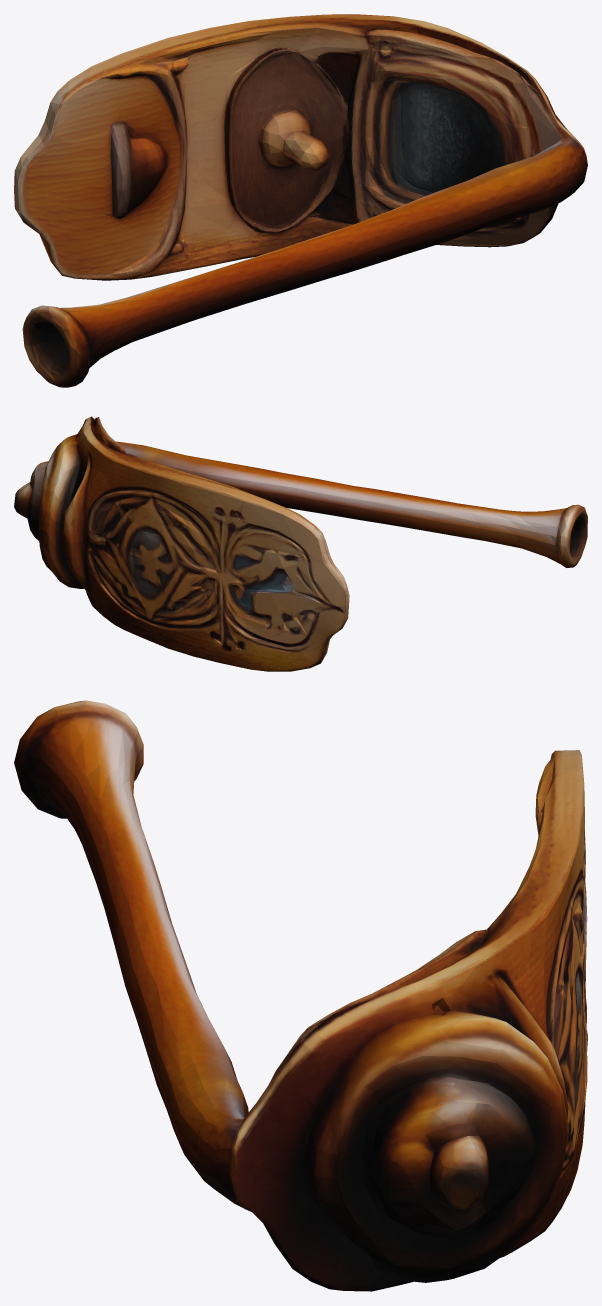
File: wooden-honey-dipper-art-deco.jpeg.glb
3 renders of one model, top to bottom at view 1: azimuth 30°, elevation 25°; view 2: azimuth 150°, elevation 25°; view 3: azimuth 270°, elevation 25°, orthographic. The views are drawn at different scales.
Visible parts, largest first — view 1: world; view 2: world; view 3: world.
Part boxes in pixels (left/top/right/bottom): world: left=14, top=14, right=587, bottom=387; world: left=14, top=416, right=587, bottom=671; world: left=14, top=700, right=587, bottom=1291.
Bounding box in the file's own units: 0.9987 × 0.3542 × 0.5553.
1 material, 1 textured.
